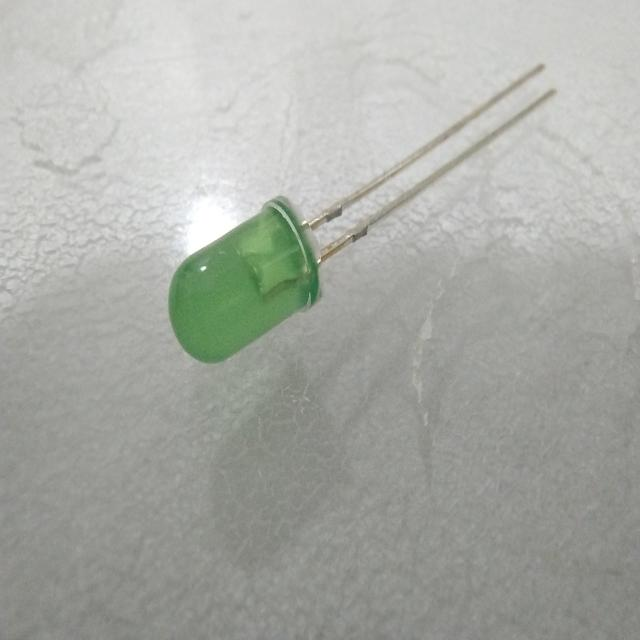green_led: (159, 183, 331, 372)
